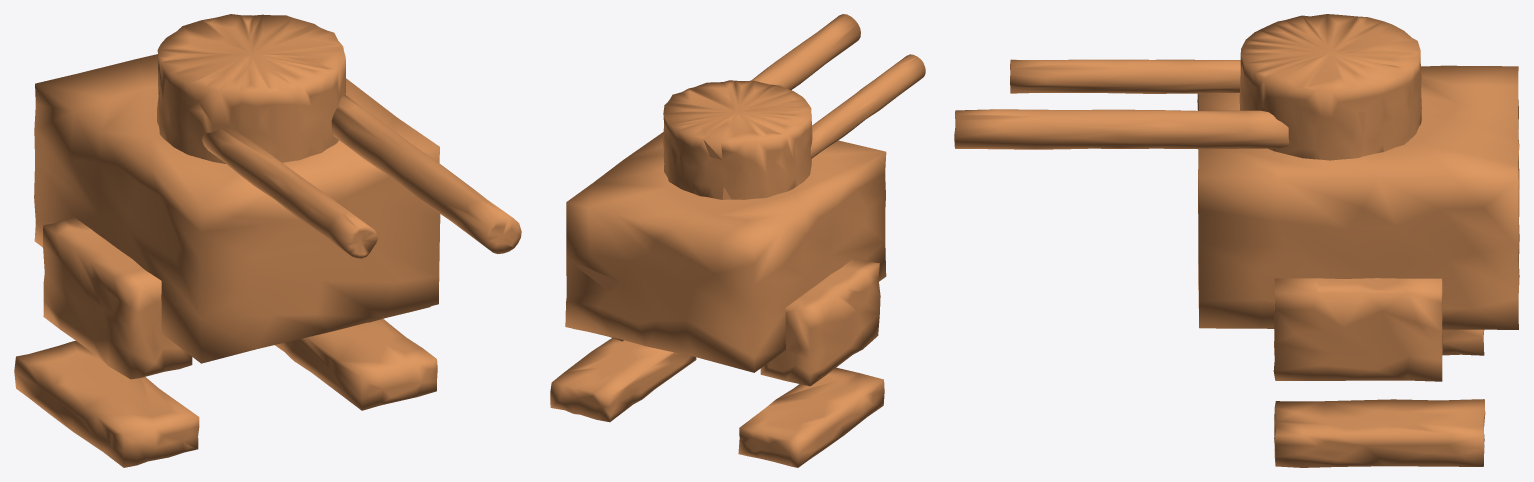
Rendered from mech.glb.
3 views of the same model, side by side, from view 1: azimuth 30°, elevation 25°; view 2: azimuth 150°, elevation 25°; view 3: azimuth 270°, elevation 25° (orthographic). The views are drawn at different scales.
Visible parts, largest first — view 1: mech; view 2: mech; view 3: mech.
Boxes of the visible parts, <box> form: mech: <box>14,14,521,467</box>; mech: <box>550,14,925,467</box>; mech: <box>954,14,1519,467</box>.
Bounding box in the file's own units: 2.23 × 2.41 × 3.6.
